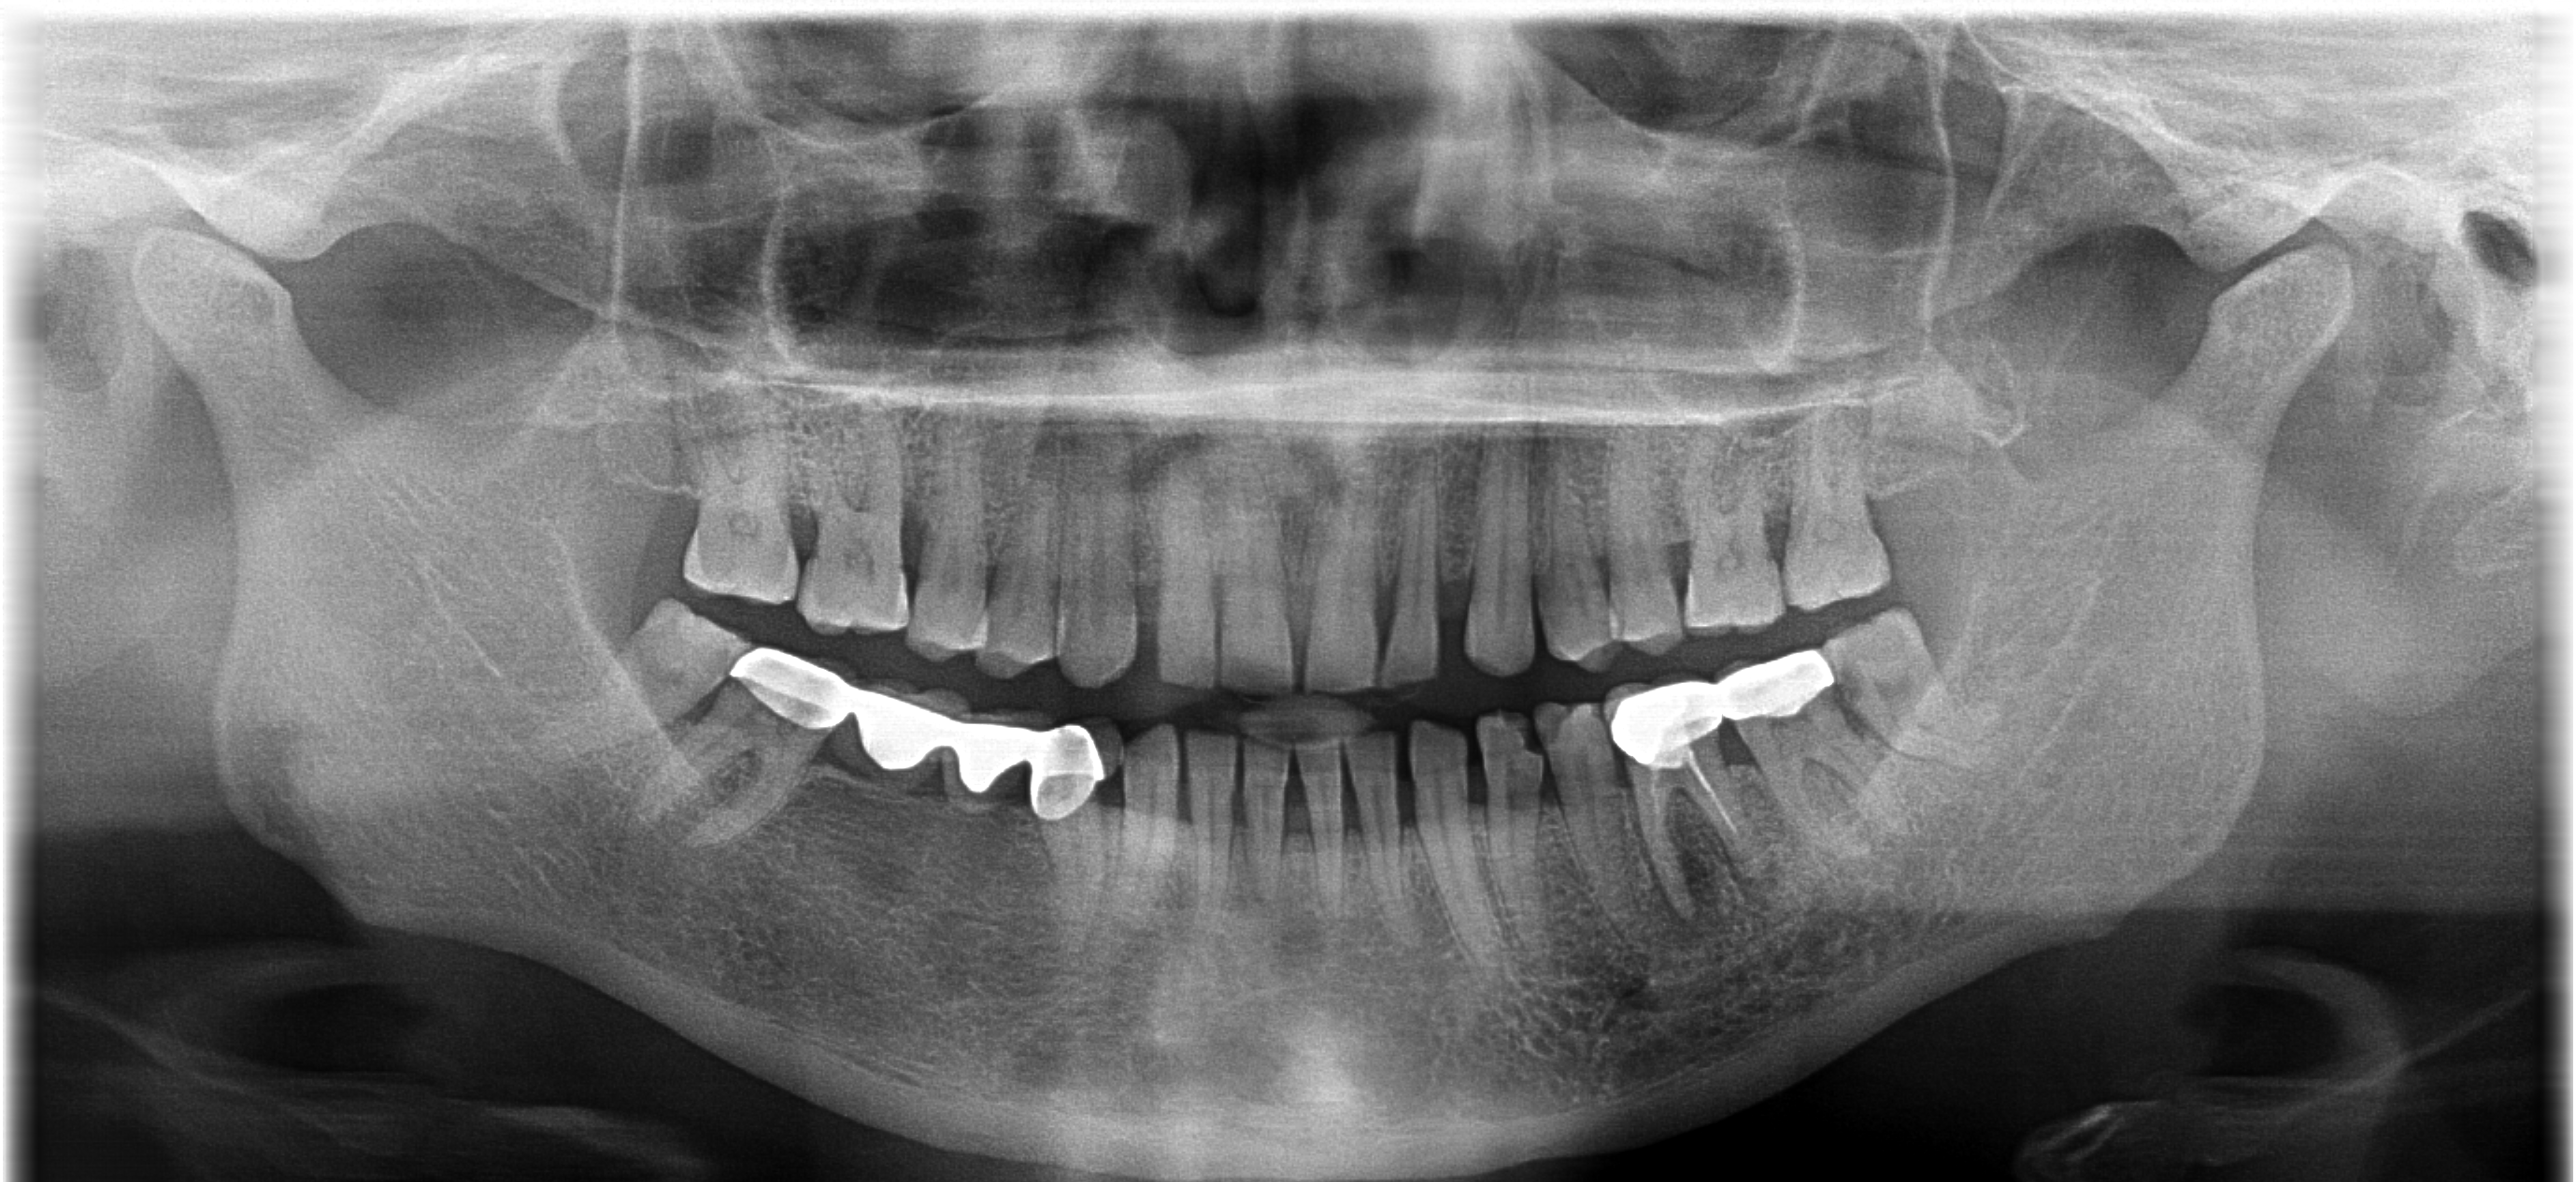caries: (1511, 654, 1646, 810)
cordal: (1802, 597, 2049, 791), (532, 582, 757, 768)
fractura: (1462, 686, 1544, 843)
tratamiento_conducto: (1605, 672, 1769, 884)
